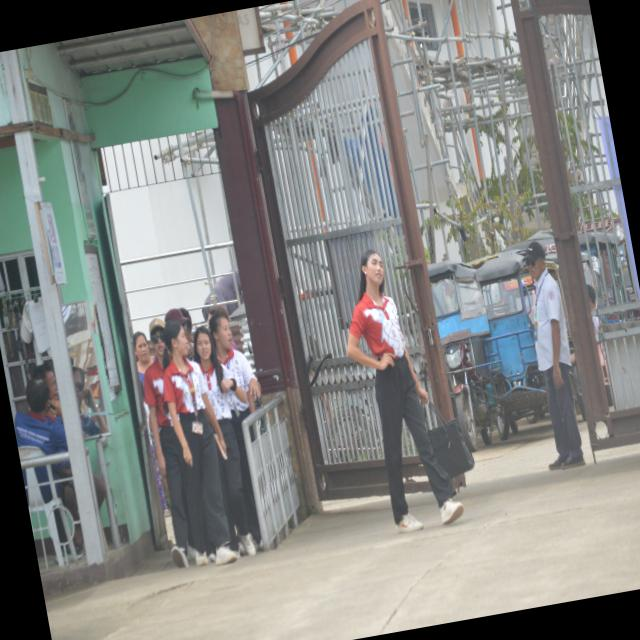person: (346, 250, 463, 532), (162, 321, 236, 565), (193, 327, 255, 556), (525, 241, 583, 470), (144, 318, 194, 568), (208, 307, 260, 543), (14, 379, 67, 455)
